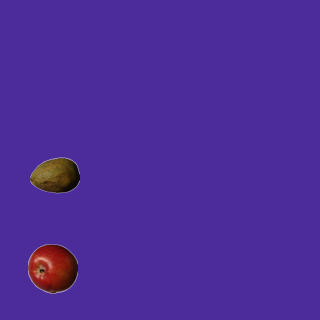Apple Braeburn: (27, 243, 77, 293)
Papaya: (29, 150, 79, 200)
